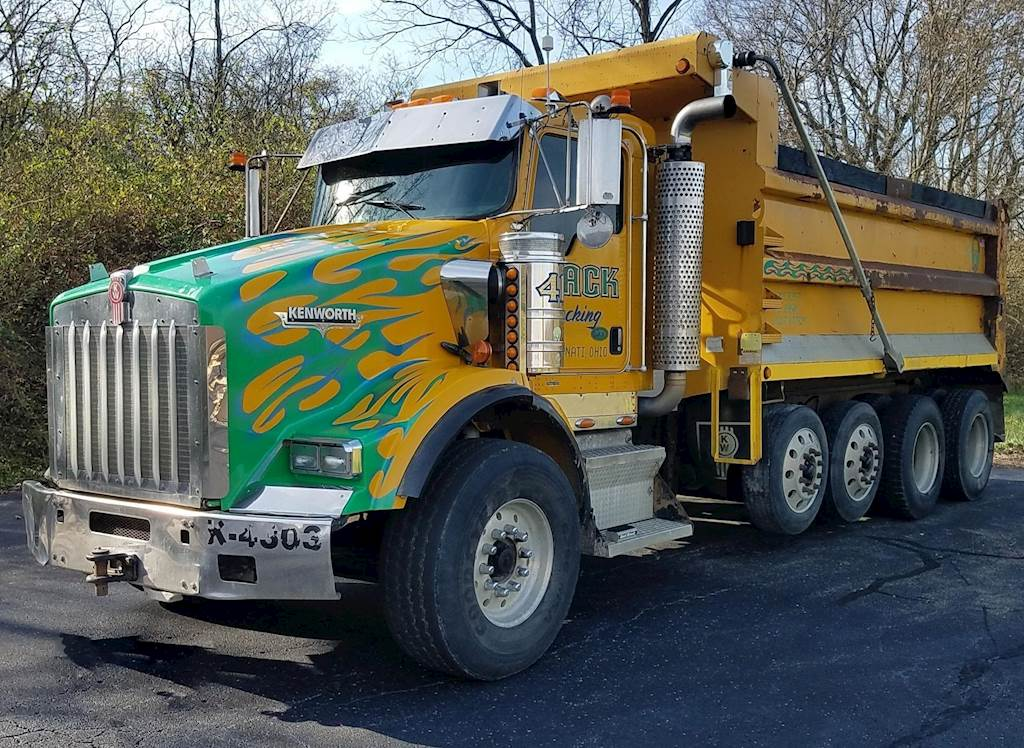truck: (28, 39, 1019, 683)
